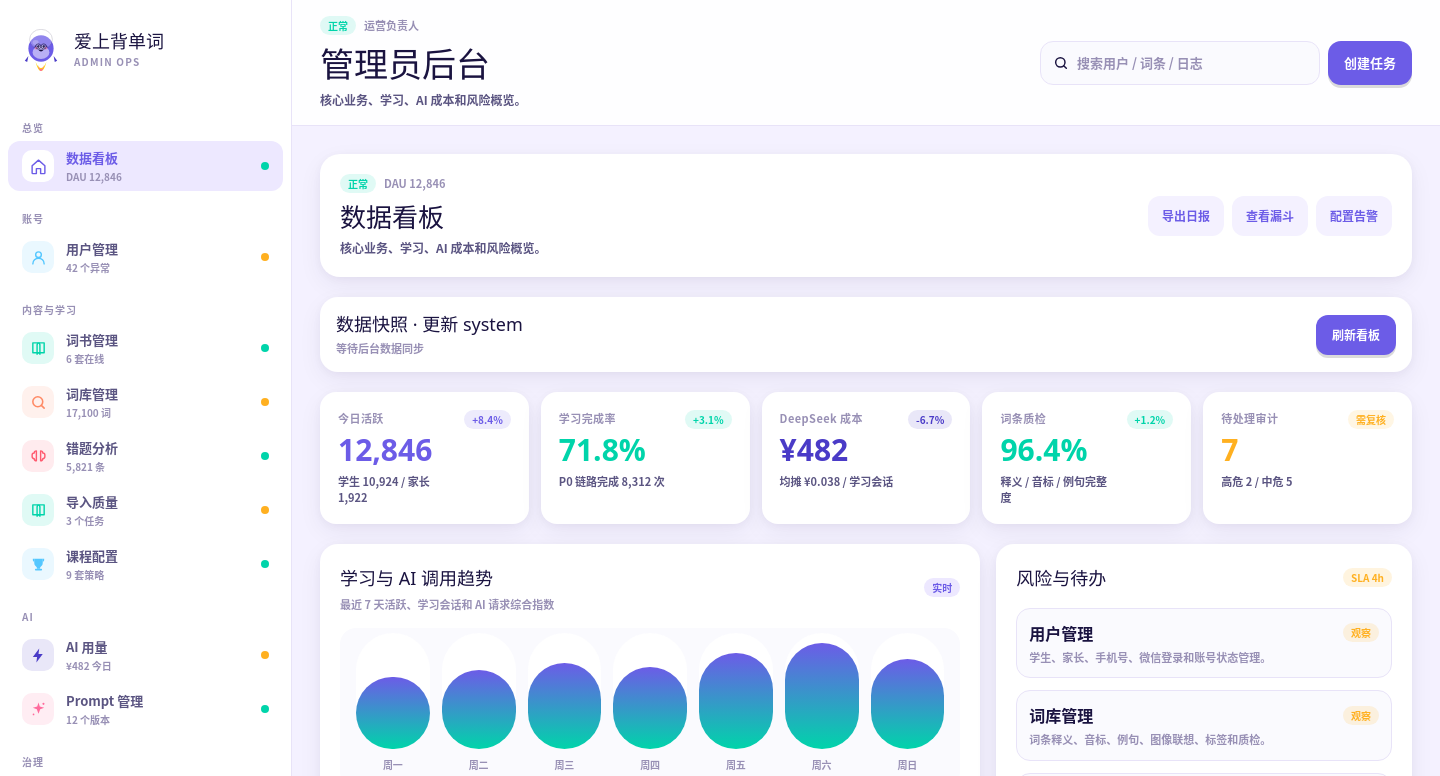
Scenario: AdminScreen › loads managed Prompt versions and creates a draft version
Click the button "Prompt 管理 12 个版本".
click(146, 709)  # box [8,684,283,734]
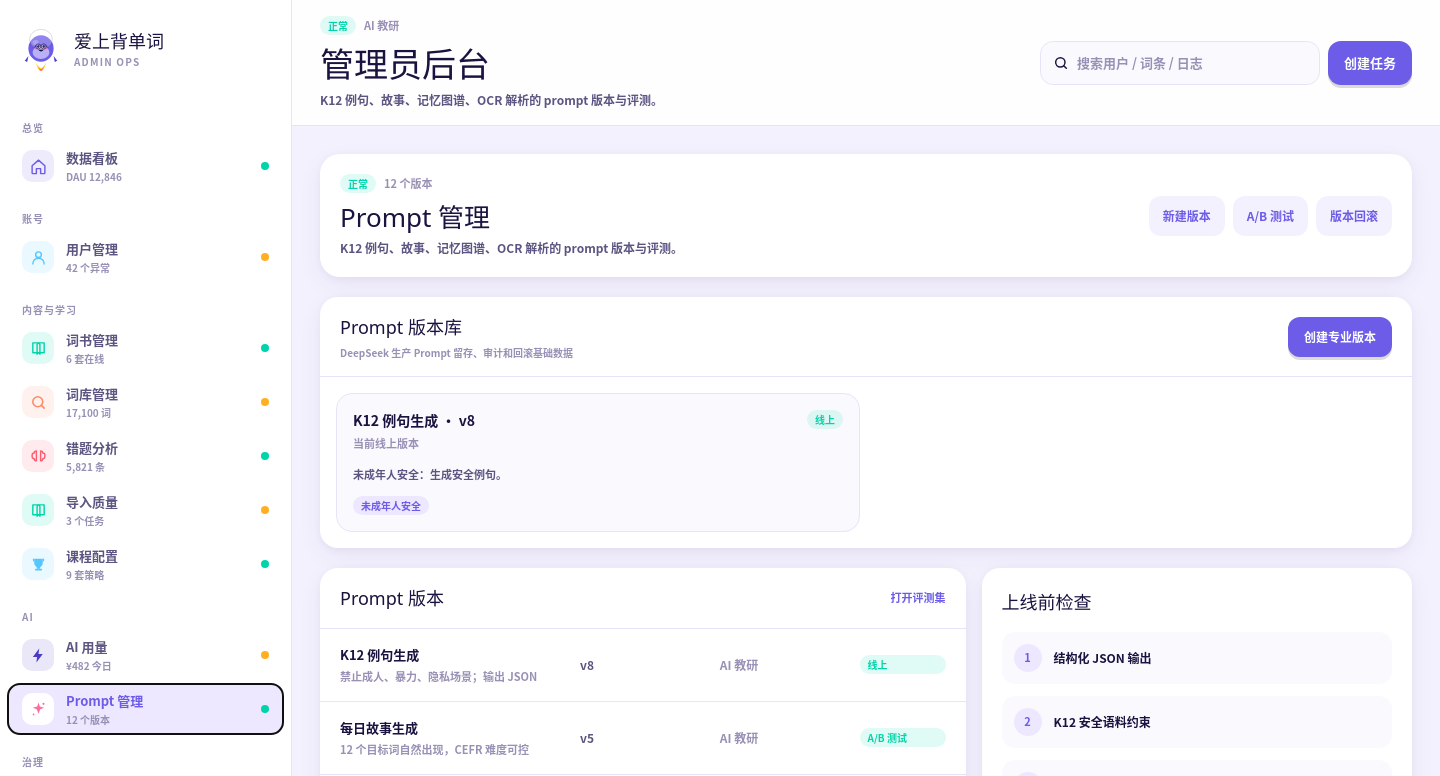
Check: the heading "Prompt 版本库" is shown, box [340,315,462,339]
Check: the text "K12 例句生成 · v8" is shown, box [353,410,475,431]
Check: the text "当前线上版本" is shown, box [353,435,419,451]
Click the button "创建专业版本".
click(1340, 336)  # box [1288,316,1392,356]
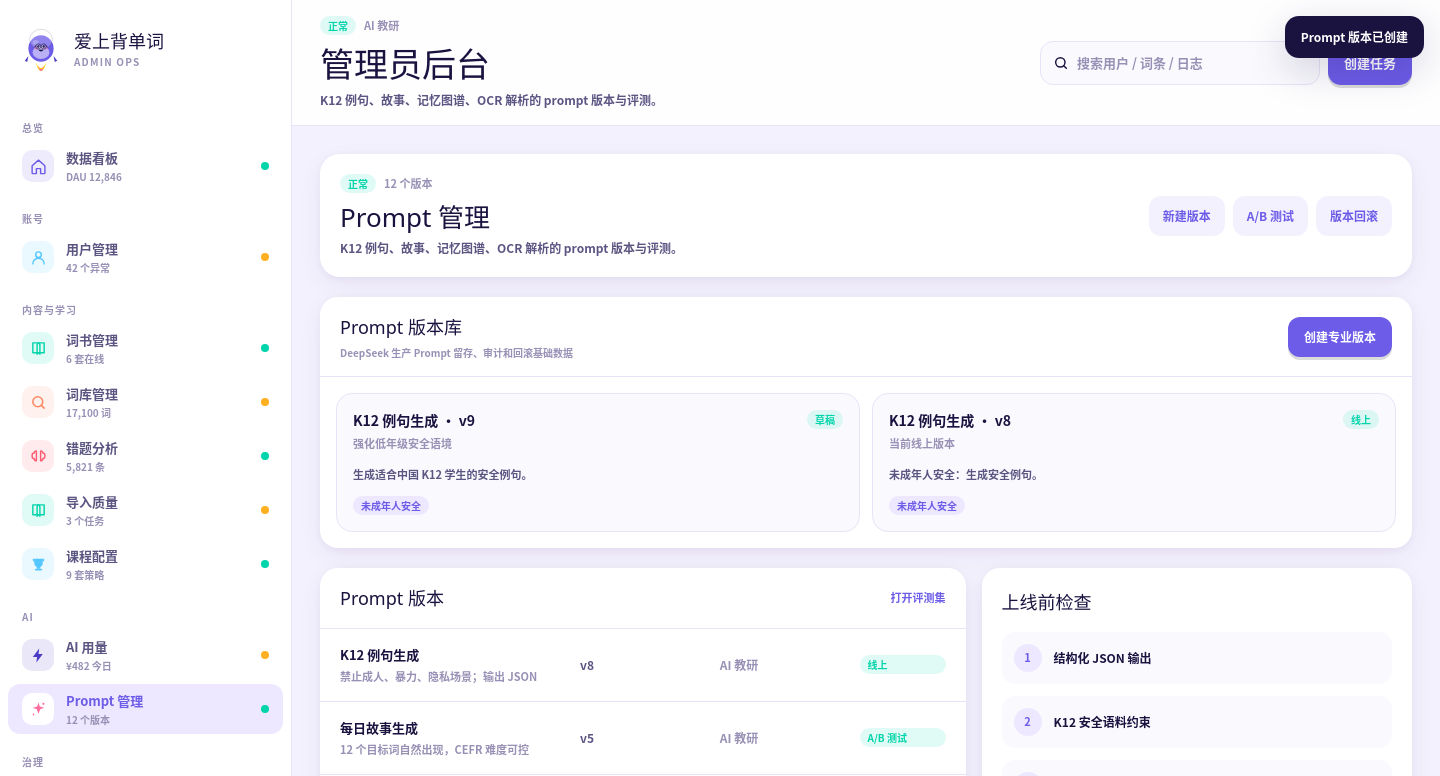
Check: the text "K12 例句生成 · v9" is shown, box [353,410,475,431]
Check: the text "Prompt 版本已创建" is shown, box [1285,16,1424,58]
